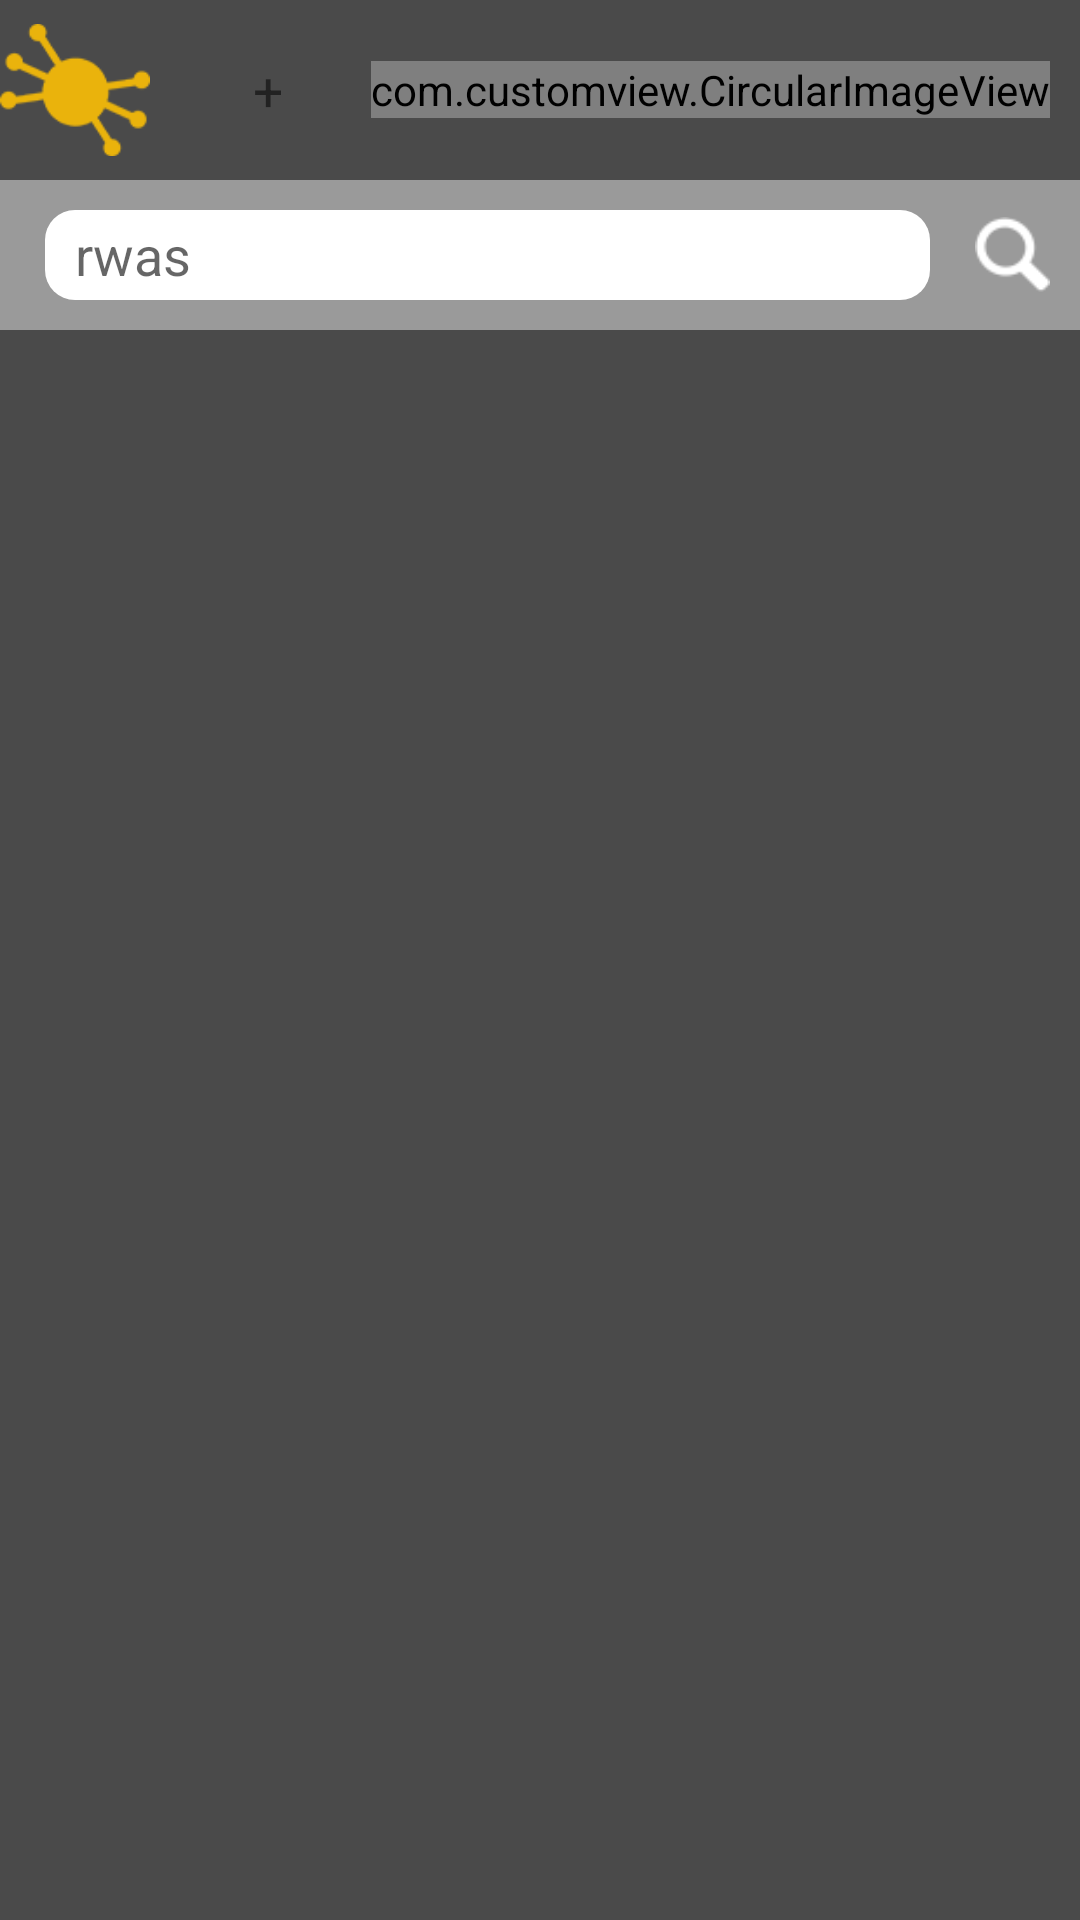

Screen size 1080 × 1920. Icon name, then its box in pixels as (x1, y1, x2, y2):
search: (975, 217, 1050, 291)
